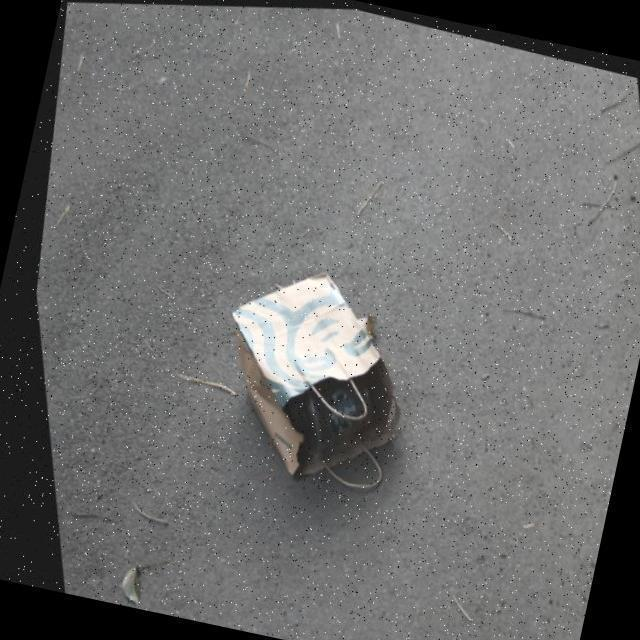Paper_Bag: (171, 229, 442, 520)
